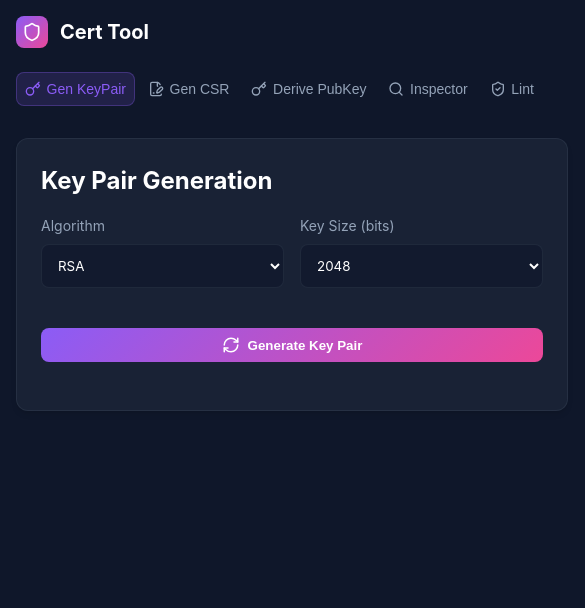
Test: App navigation › opens the linter from the Lint tab
The image size is (585, 608).
Click the button "Lint".
click(512, 89)  # box [481,72,543,106]
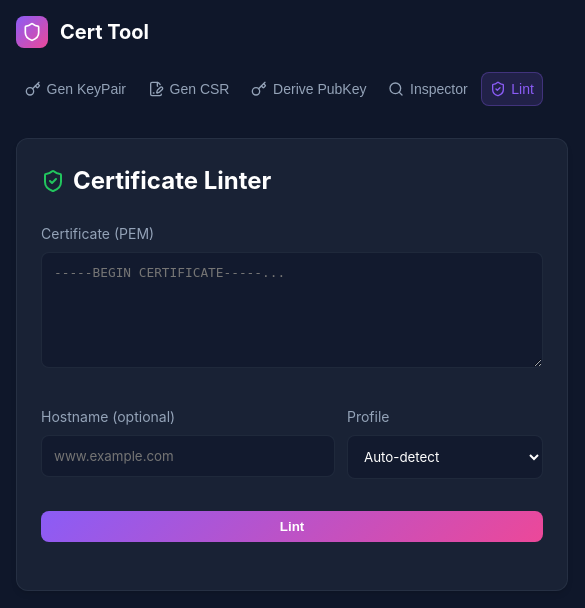
Check: the heading "Certificate Linter" is shown, box [73,163,271,199]
